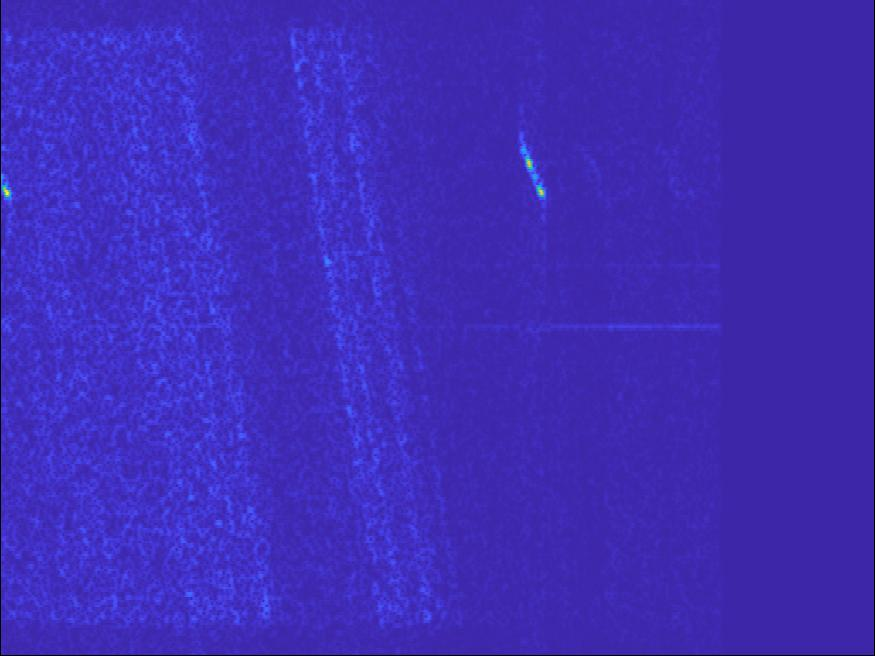Interference: (594, 109, 794, 264), (257, 292, 387, 368), (31, 62, 181, 110)
